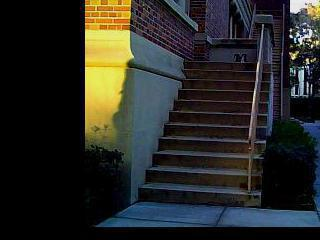Escaleras: (153, 60, 272, 209), (243, 2, 285, 131)
